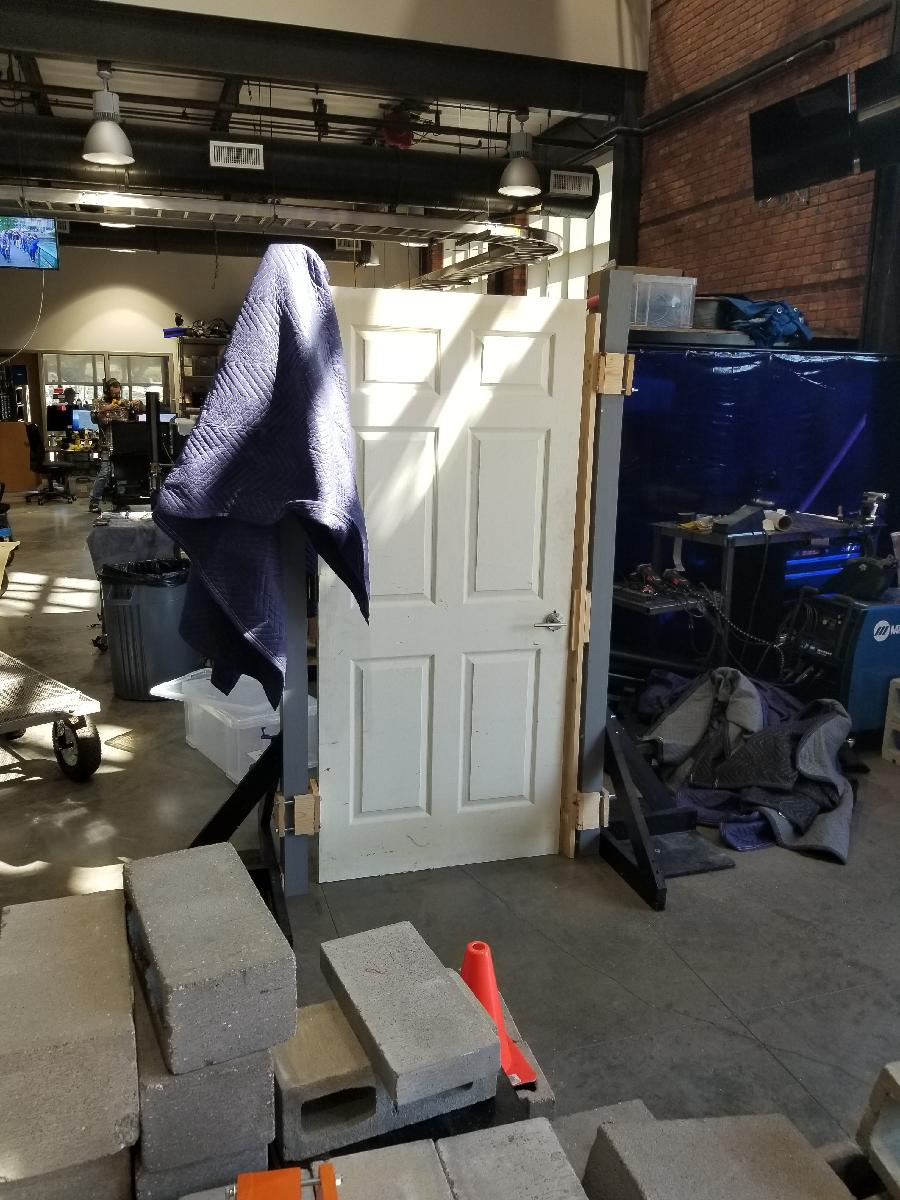door: (310, 282, 590, 891)
doorHandle: (532, 603, 572, 637)
